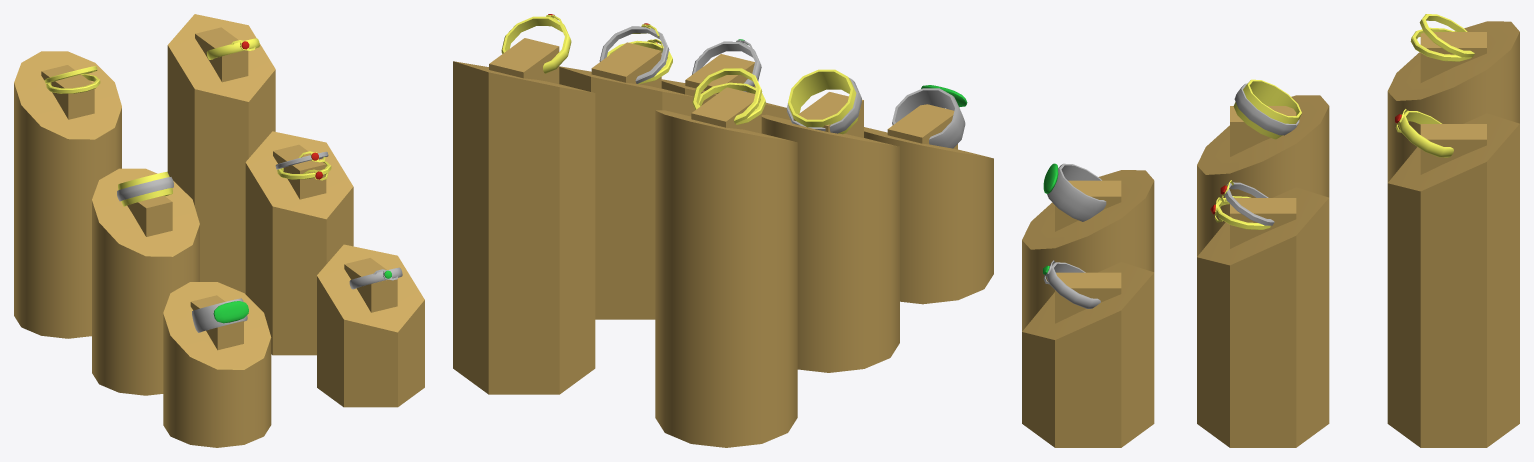
The model's file is Rings_1.fbx.
3 views of the same model, side by side, from view 1: azimuth 30°, elevation 25°; view 2: azimuth 150°, elevation 25°; view 3: azimuth 270°, elevation 25° (orthographic). The views are drawn at different scales.
Visible parts, largest first — view 1: SM_Ring_Stand_4_1, SM_Ring_Stand_6_1, SM_Ring_Stand_2_1, SM_Ring_Stand_5_1, SM_Ring_Stand_3_1, SM_Ring_Stand_7_1, SM_Ring_5, SM_Ring_9, SM_Ring_8, SM_Ring_3, SM_Ring_16, SM_Ring_7; view 2: SM_Ring_Stand_4_1, SM_Ring_Stand_6_1, SM_Ring_Stand_2_1, SM_Ring_Stand_5_1, SM_Ring_Stand_3_1, SM_Ring_5, SM_Ring_9, SM_Ring_Stand_7_1, SM_Ring_3, SM_Ring_8, SM_Ring_7, SM_Ring_16; view 3: SM_Ring_Stand_6_1, SM_Ring_Stand_5_1, SM_Ring_Stand_7_1, SM_Ring_Stand_4_1, SM_Ring_Stand_3_1, SM_Ring_Stand_2_1, SM_Ring_5, SM_Ring_9, SM_Ring_8, SM_Ring_3, SM_Ring_7, SM_Ring_16.
Part boxes in pixels (left/top/right/bottom): SM_Ring_Stand_4_1: left=14, top=51, right=121, bottom=338; SM_Ring_Stand_6_1: left=167, top=14, right=275, bottom=293; SM_Ring_Stand_2_1: left=92, top=168, right=199, bottom=395; SM_Ring_Stand_5_1: left=245, top=131, right=353, bottom=355; SM_Ring_Stand_3_1: left=163, top=282, right=271, bottom=447; SM_Ring_Stand_7_1: left=317, top=244, right=424, bottom=407; SM_Ring_5: left=117, top=171, right=173, bottom=206; SM_Ring_9: left=192, top=298, right=248, bottom=332; SM_Ring_8: left=275, top=151, right=331, bottom=180; SM_Ring_3: left=44, top=66, right=100, bottom=93; SM_Ring_16: left=349, top=267, right=402, bottom=289; SM_Ring_7: left=206, top=38, right=259, bottom=59; SM_Ring_Stand_4_1: left=655, top=87, right=797, bottom=447; SM_Ring_Stand_6_1: left=453, top=38, right=595, bottom=394; SM_Ring_Stand_2_1: left=761, top=92, right=899, bottom=372; SM_Ring_Stand_5_1: left=559, top=42, right=695, bottom=319; SM_Ring_Stand_3_1: left=864, top=104, right=993, bottom=304; SM_Ring_5: left=786, top=69, right=861, bottom=134; SM_Ring_9: left=892, top=85, right=967, bottom=148; SM_Ring_Stand_7_1: left=661, top=54, right=790, bottom=120; SM_Ring_3: left=692, top=68, right=765, bottom=124; SM_Ring_8: left=599, top=23, right=672, bottom=84; SM_Ring_7: left=501, top=14, right=571, bottom=73; SM_Ring_16: left=692, top=39, right=761, bottom=92; SM_Ring_Stand_6_1: left=1387, top=113, right=1519, bottom=447; SM_Ring_Stand_5_1: left=1197, top=187, right=1329, bottom=447; SM_Ring_Stand_7_1: left=1022, top=262, right=1154, bottom=447; SM_Ring_Stand_4_1: left=1387, top=21, right=1519, bottom=182; SM_Ring_Stand_3_1: left=1022, top=170, right=1154, bottom=331; SM_Ring_Stand_2_1: left=1197, top=95, right=1329, bottom=256; SM_Ring_5: left=1233, top=79, right=1301, bottom=139; SM_Ring_9: left=1043, top=163, right=1106, bottom=221; SM_Ring_8: left=1210, top=180, right=1274, bottom=229; SM_Ring_3: left=1410, top=14, right=1474, bottom=61; SM_Ring_7: left=1395, top=109, right=1453, bottom=157; SM_Ring_16: left=1043, top=260, right=1100, bottom=308.
Size of the model in its own units: 10.3 by 10.46 by 15.04.
